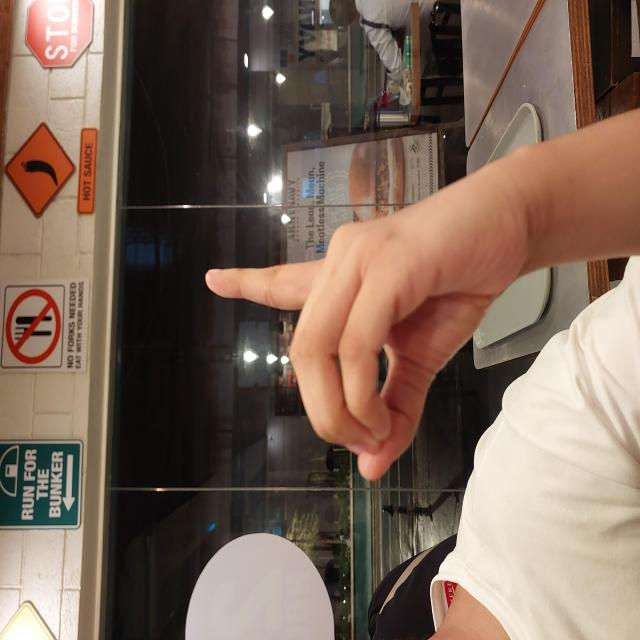D: (158, 205, 467, 531)
